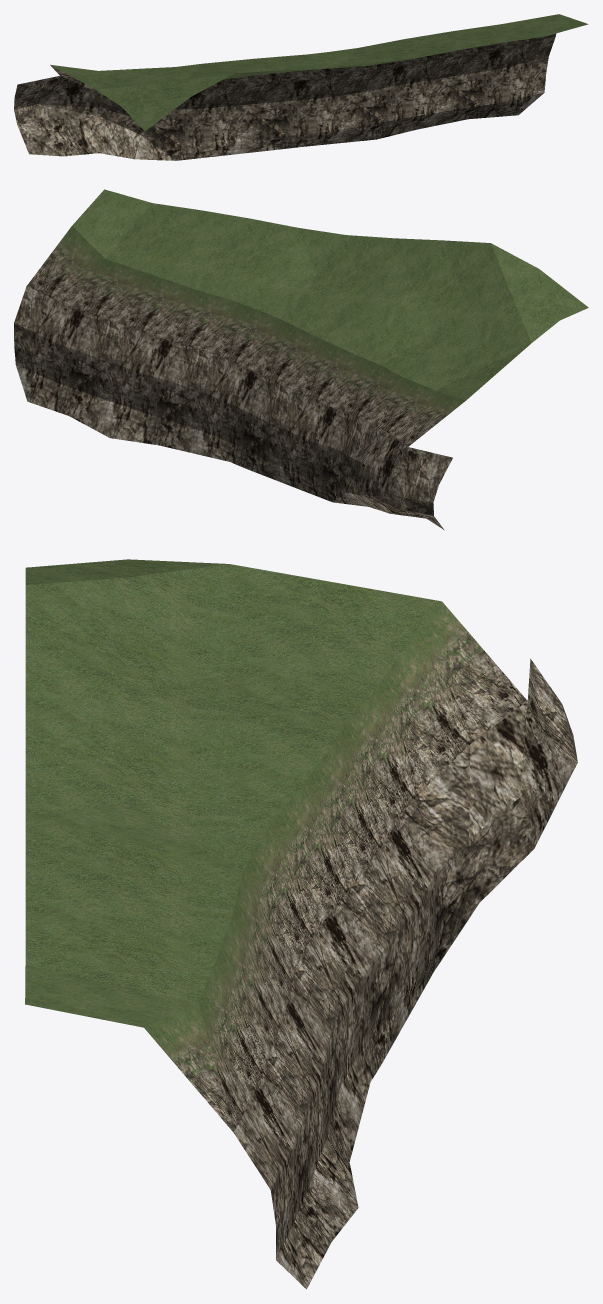
Rendered from a_carisle_mid_landmass_02_01.fbx.
The picture shows the model from 3 angles, top to bottom: view 1: azimuth 30°, elevation 25°; view 2: azimuth 150°, elevation 25°; view 3: azimuth 270°, elevation 25°; orthographic projection. The views are drawn at different scales.
Parts seen in each view (by area): view 1: a_carisle_mid_landmass_02_01; view 2: a_carisle_mid_landmass_02_01; view 3: a_carisle_mid_landmass_02_01.
Part boxes in pixels (x1,y1,x2,y2): a_carisle_mid_landmass_02_01: [14, 14, 588, 160]; a_carisle_mid_landmass_02_01: [14, 189, 588, 530]; a_carisle_mid_landmass_02_01: [25, 559, 577, 1289].
Bounding box in the file's own units: 21.5 × 11.03 × 8.02.
